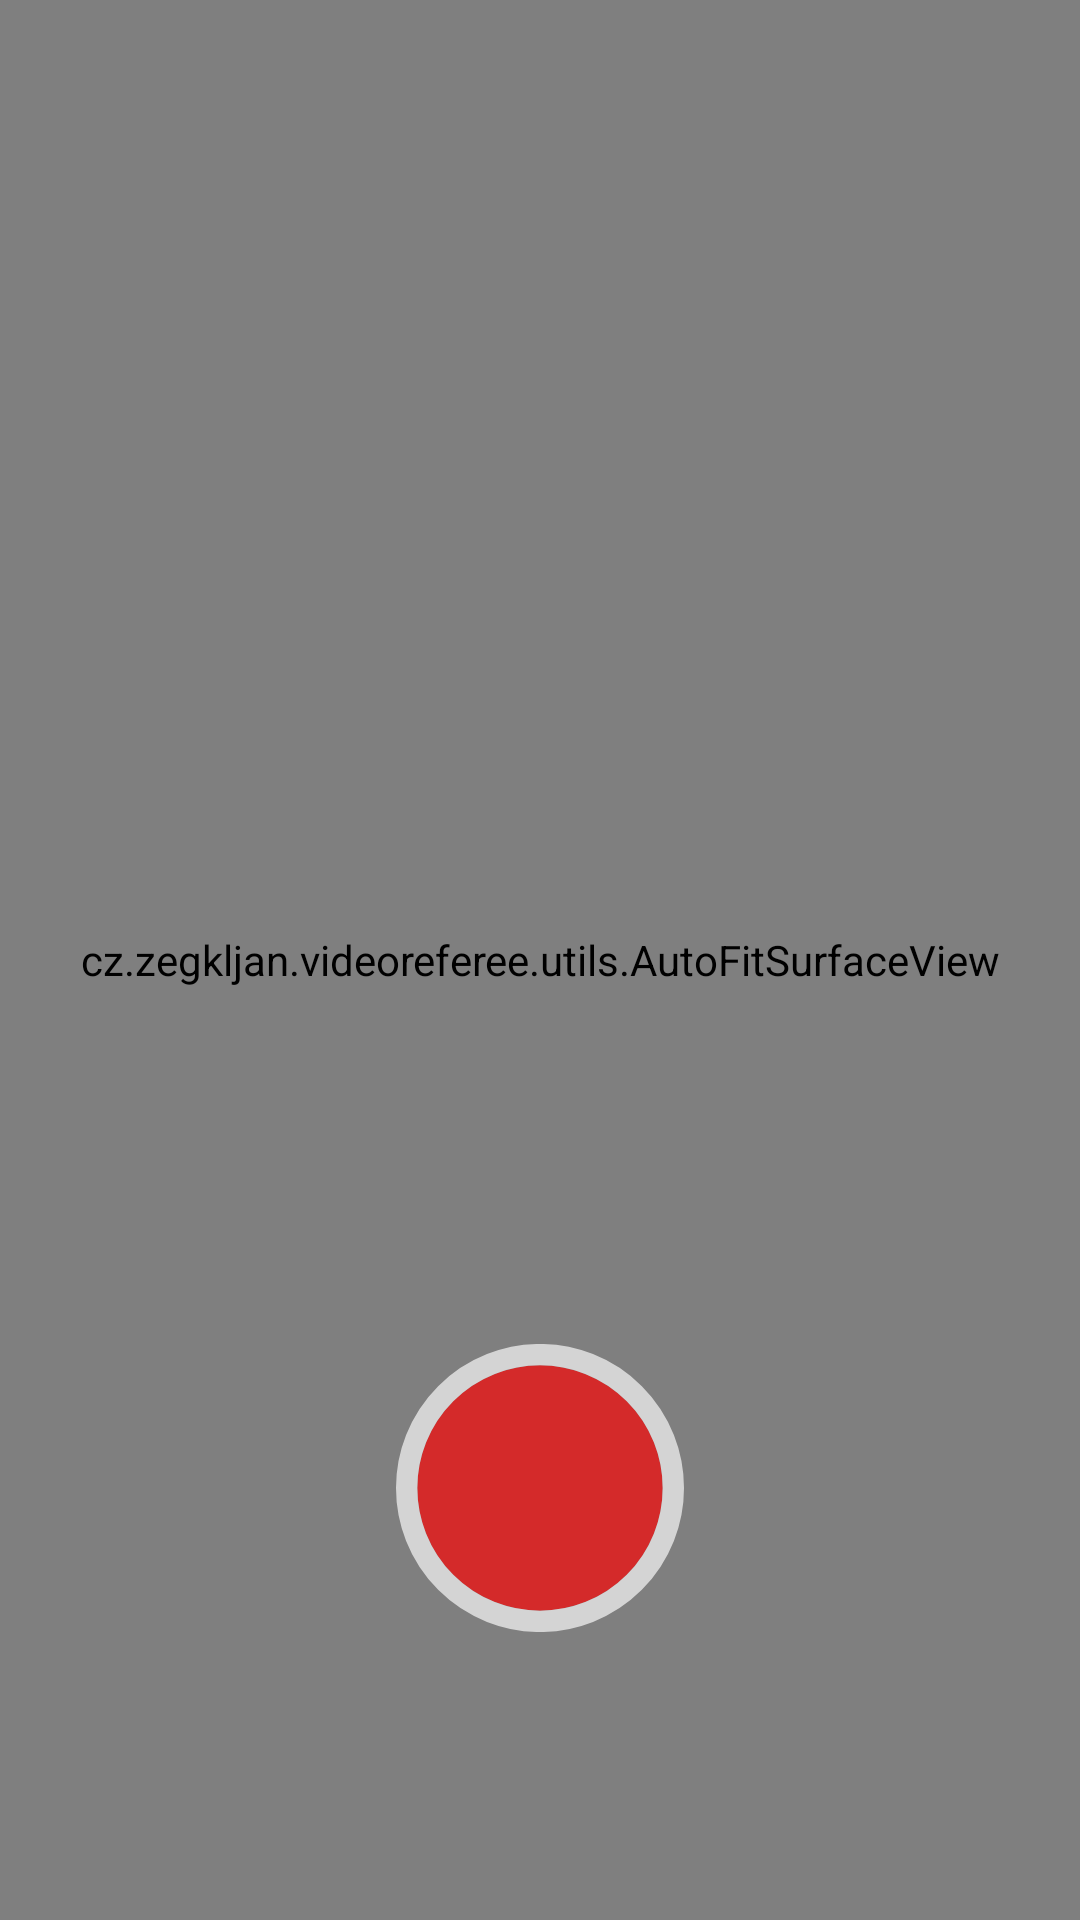

Named icons in this screenshot (1080 x 1920) and their centers, point (x, y):
Capture: point (540, 1488)
